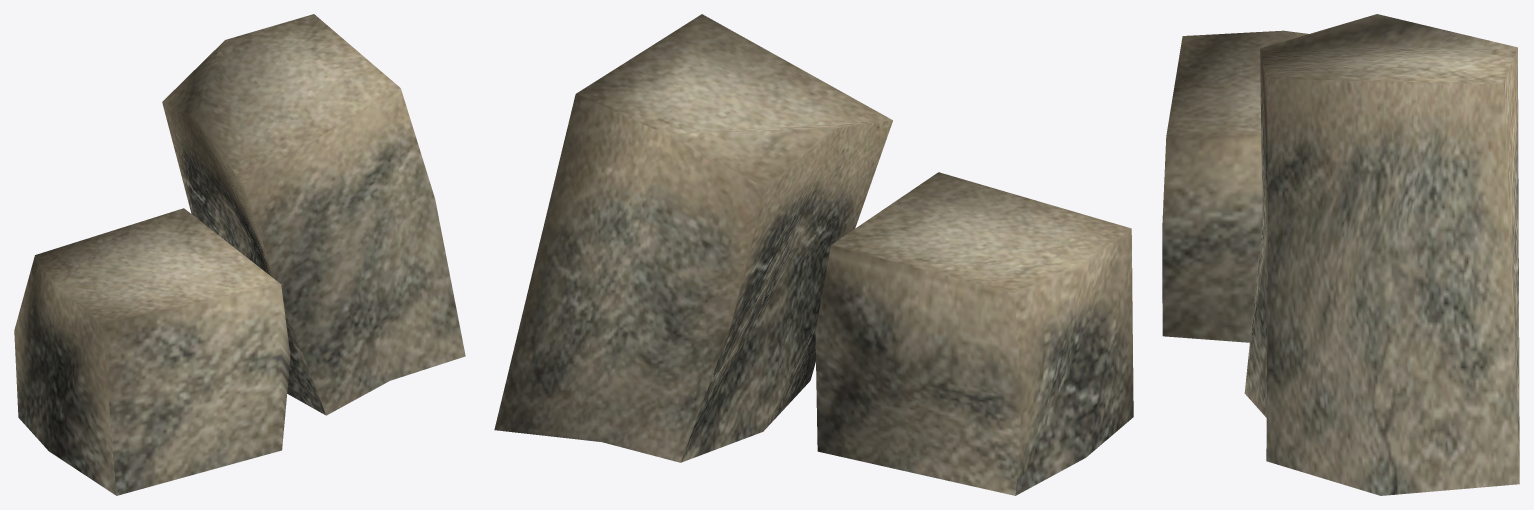
The model's file is desert-bigstone04_lod_01.fbx.
The picture shows the model from 3 angles, left to right: view 1: azimuth 30°, elevation 25°; view 2: azimuth 150°, elevation 25°; view 3: azimuth 270°, elevation 25°; orthographic projection. The views are drawn at different scales.
Parts seen in each view (by area): view 1: desert_bigstone; view 2: desert_bigstone; view 3: desert_bigstone.
Boxes of the visible parts, x1,y1,x2,y2 form: desert_bigstone: (14, 14, 465, 495); desert_bigstone: (494, 14, 1133, 495); desert_bigstone: (1162, 14, 1519, 495).
Size of the model in its own units: 5.46 by 3.7 by 3.27.
